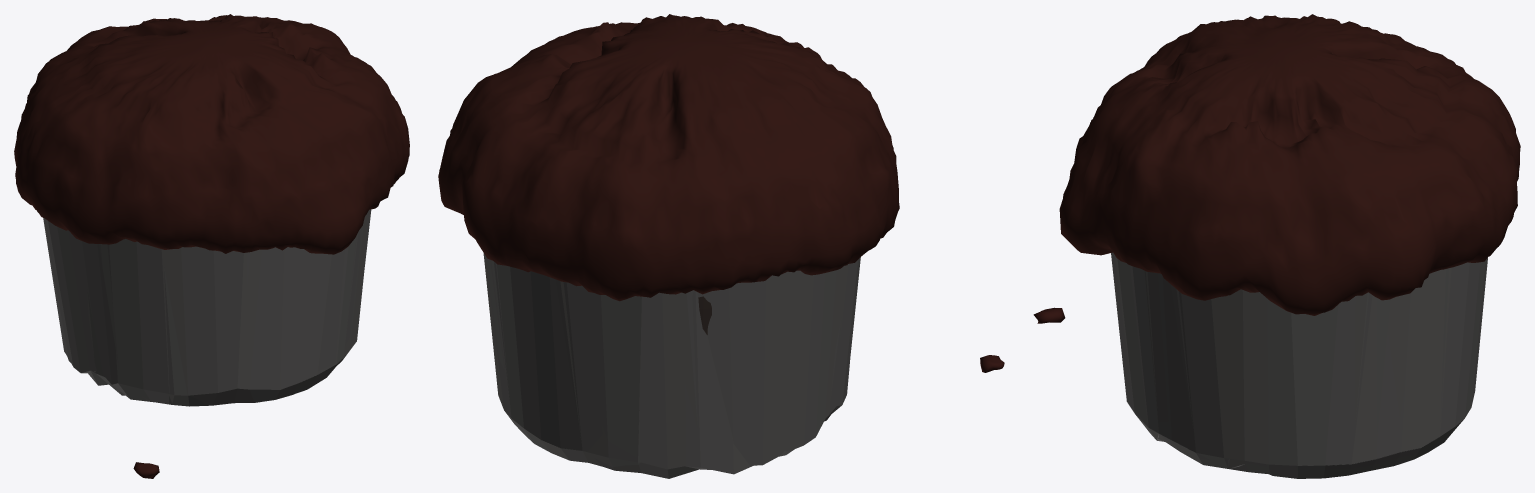
Rendered from muffin.fbx.
3 views of the same model, side by side, from view 1: azimuth 30°, elevation 25°; view 2: azimuth 150°, elevation 25°; view 3: azimuth 270°, elevation 25° (orthographic). The views are drawn at different scales.
Visible parts, largest first — view 1: Cupcake_Top.001, Paper.001; view 2: Cupcake_Top.001, Paper.001; view 3: Cupcake_Top.001, Paper.001.
Part boxes in pixels (x1,y1,x2,y2): Cupcake_Top.001: (14, 14, 409, 254); Paper.001: (43, 209, 371, 406); Cupcake_Top.001: (438, 14, 899, 301); Paper.001: (483, 253, 860, 478); Cupcake_Top.001: (1059, 14, 1520, 315); Paper.001: (1111, 252, 1487, 478).
Size of the model in its own units: 6.67 by 5.74 by 6.89.
